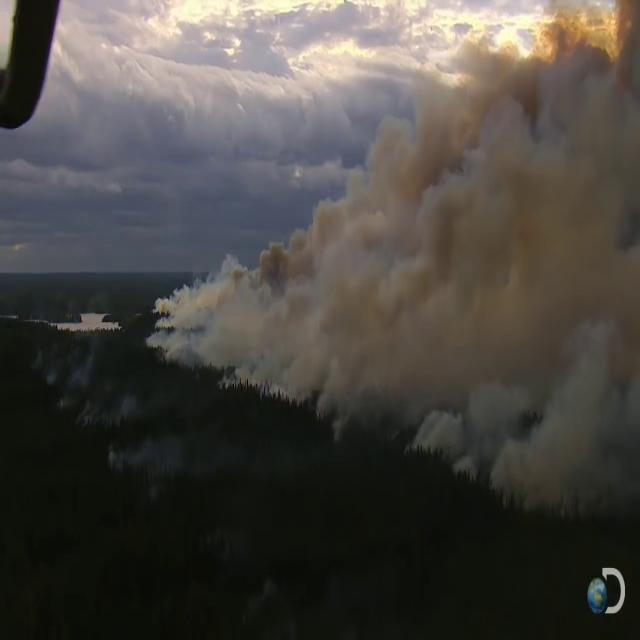Smoke: (320, 66, 640, 480)
